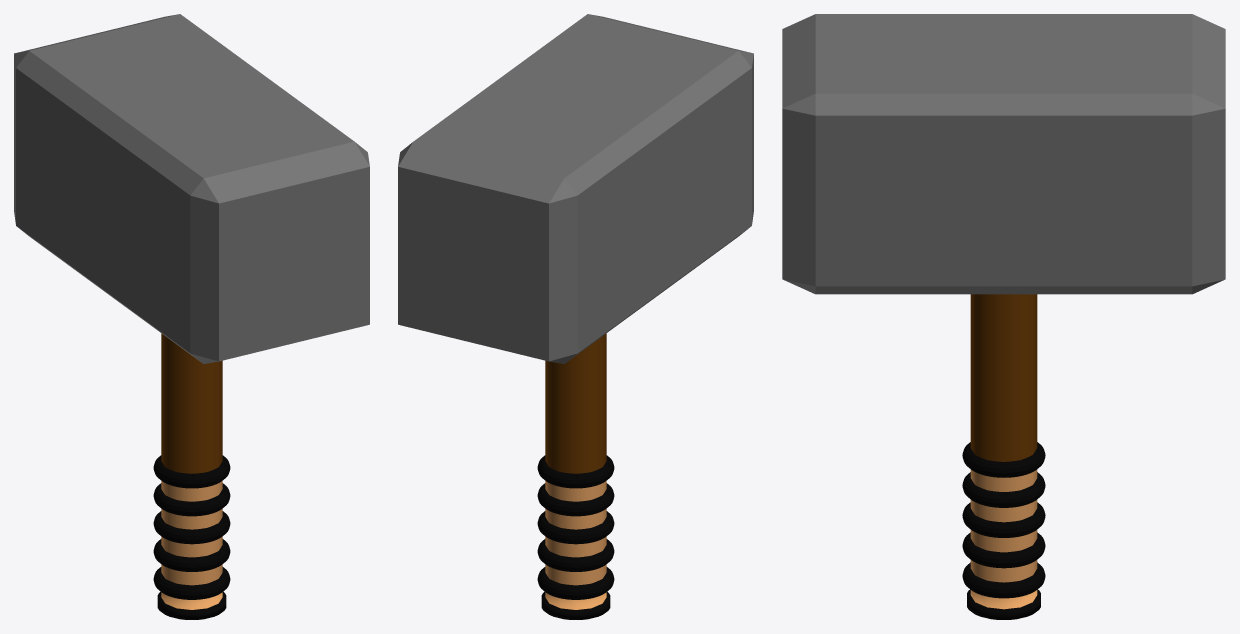
The model's file is Mjölnir.fbx.
The picture shows the model from 3 angles, left to right: view 1: azimuth 30°, elevation 25°; view 2: azimuth 150°, elevation 25°; view 3: azimuth 270°, elevation 25°; orthographic projection. The views are drawn at different scales.
Parts seen in each view (by area): view 1: Cube; view 2: Cube; view 3: Cube.
Part boxes in pixels (<box>): Cube: <box>14,14,369,619</box>; Cube: <box>398,14,753,619</box>; Cube: <box>782,14,1225,619</box>.
Size of the model in its own units: 100 by 275 by 200.
